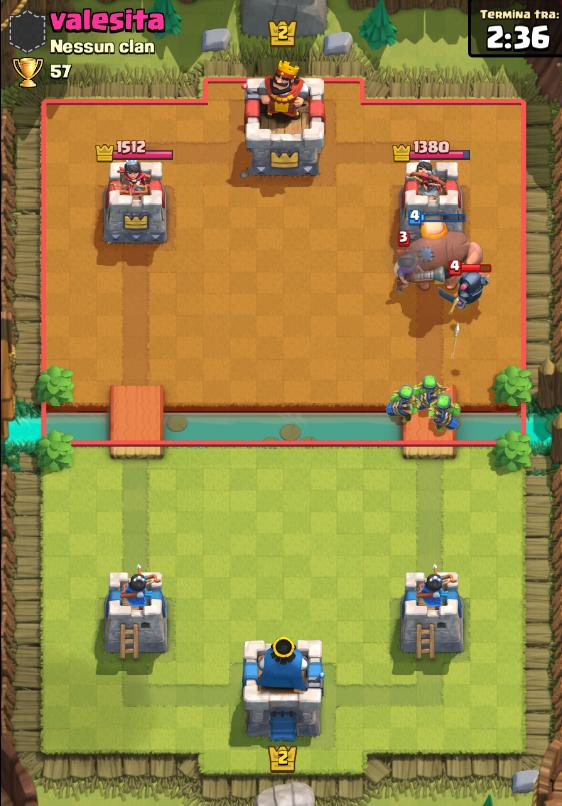ally_giant: (400, 211, 480, 296)
ally_spear_goblin: (431, 395, 465, 432), (392, 382, 416, 429), (412, 373, 433, 410)
enemy_mini_pekka: (445, 264, 490, 311)
